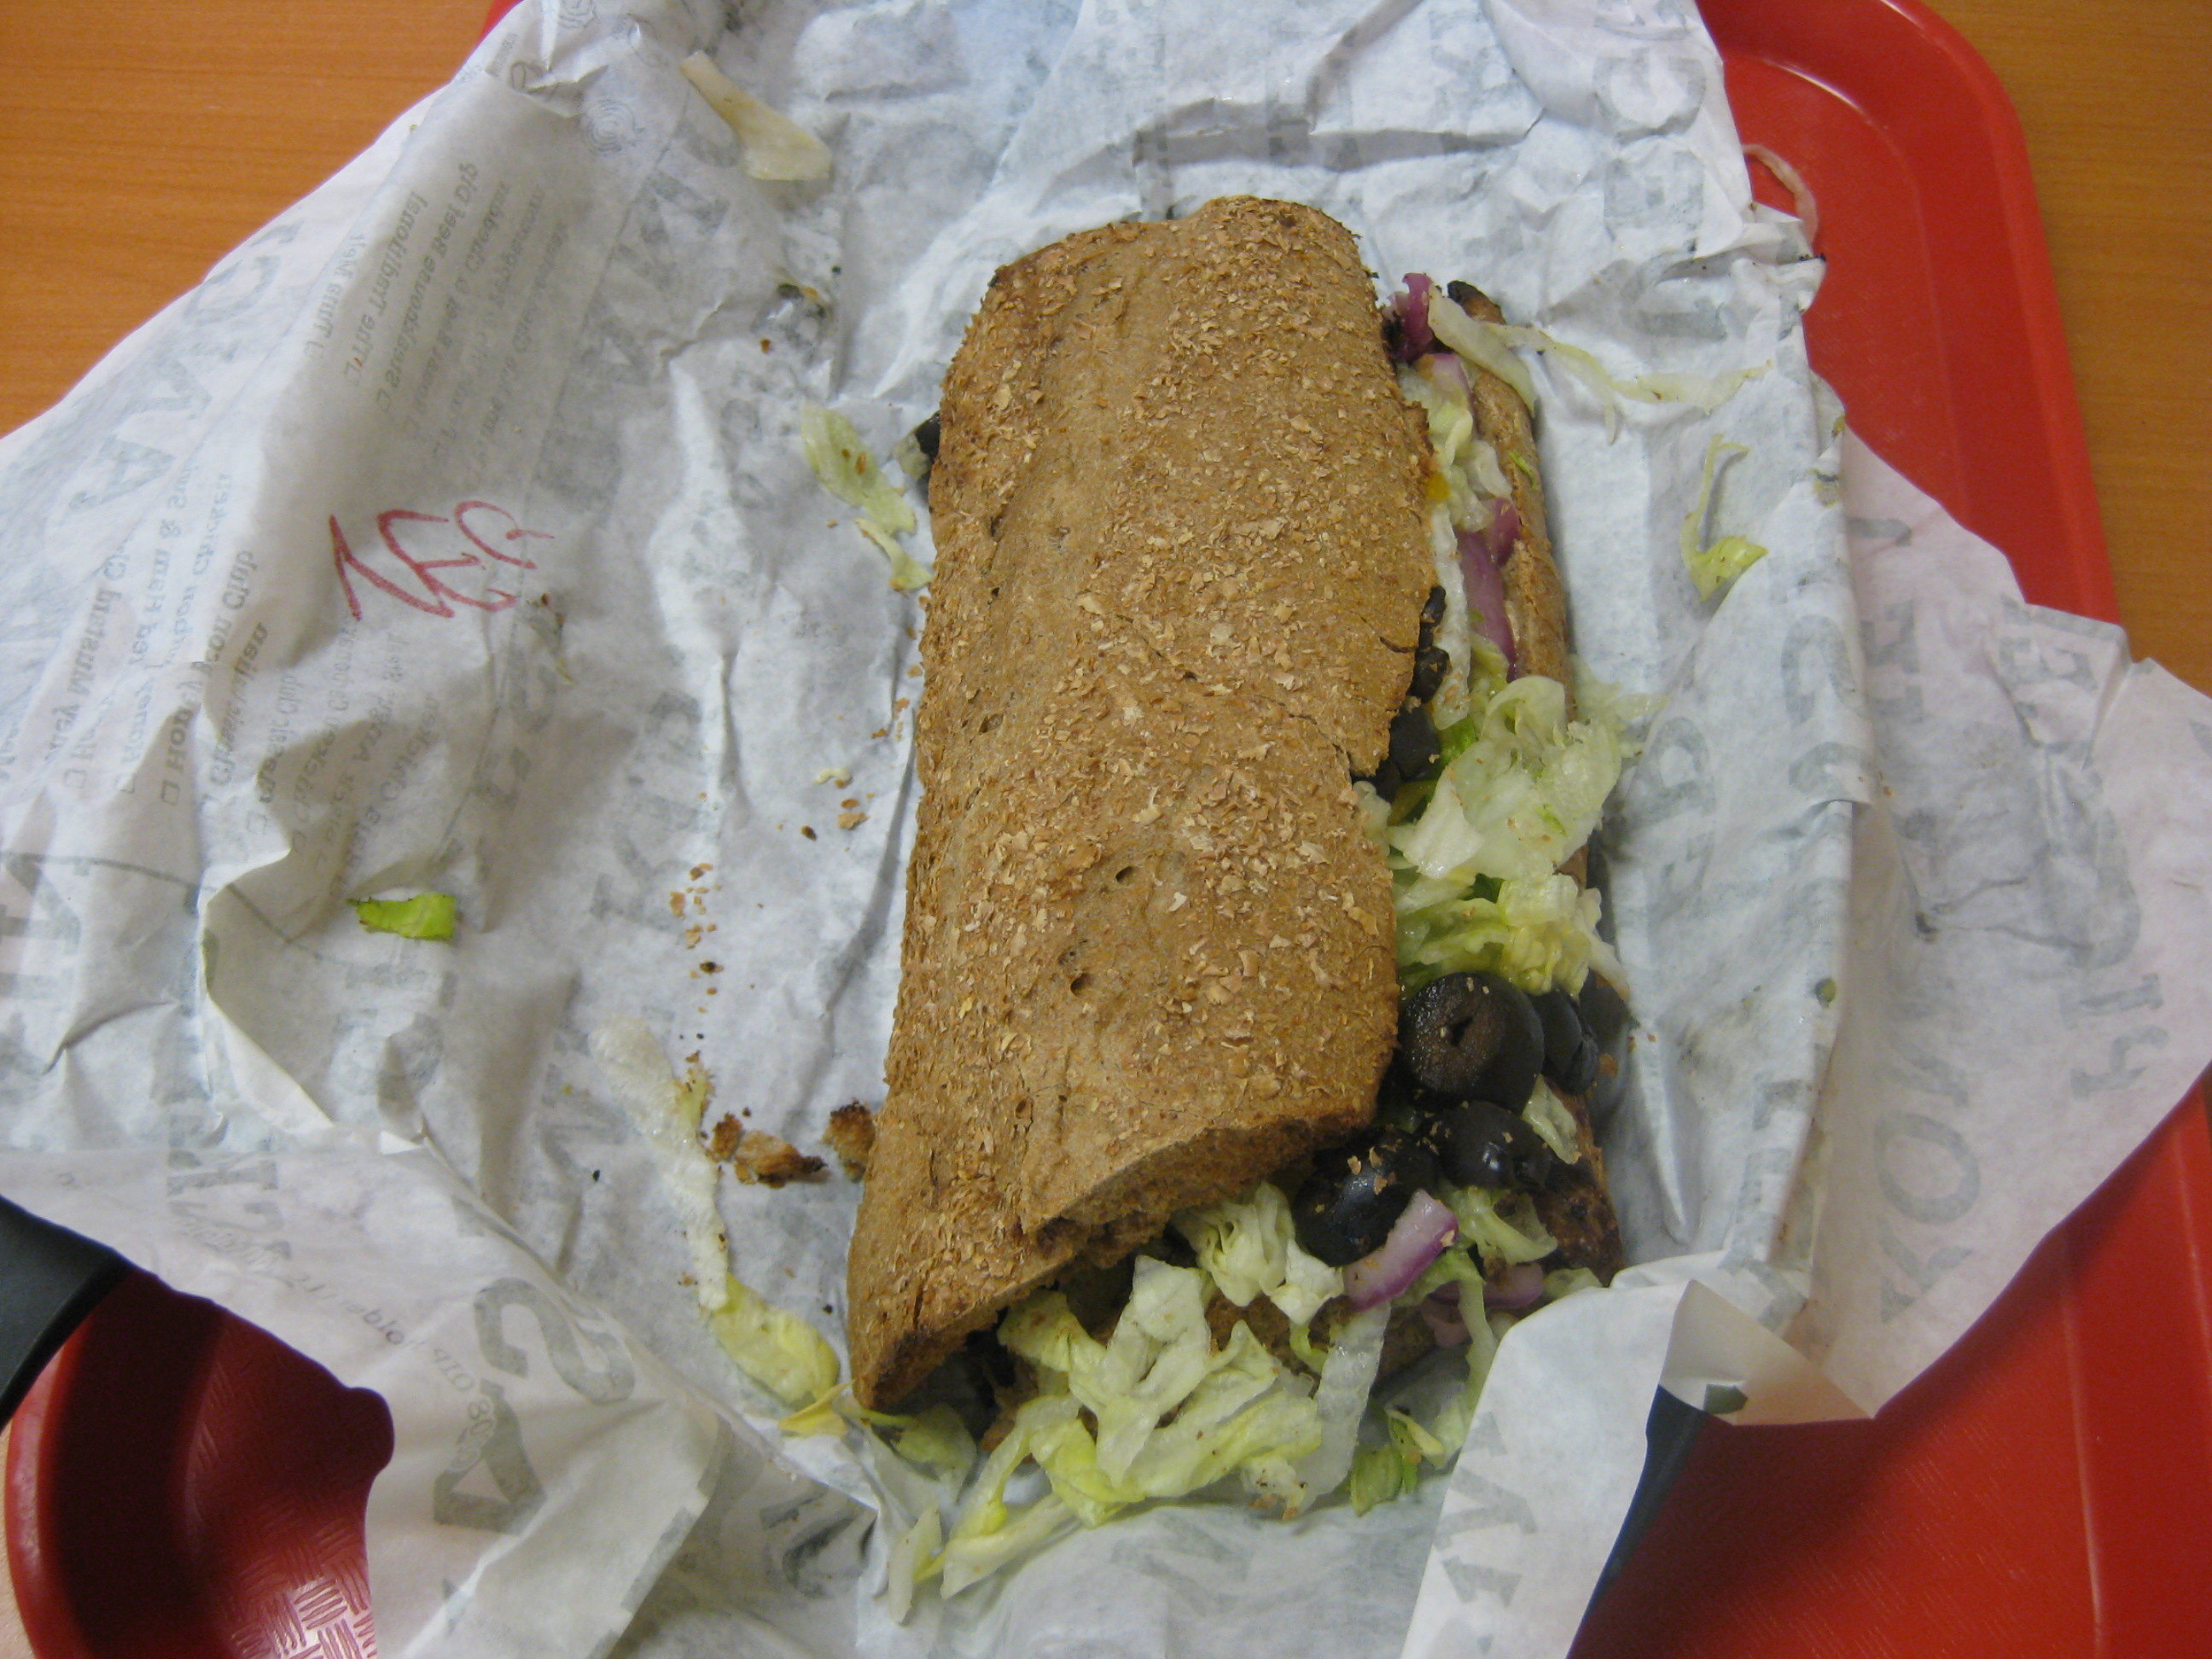sub: (888, 188, 1592, 1516)
